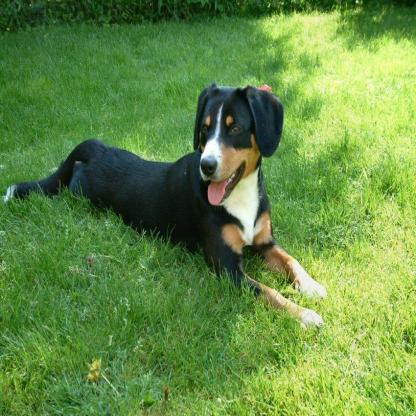EntleBucher: (4, 81, 324, 332)
